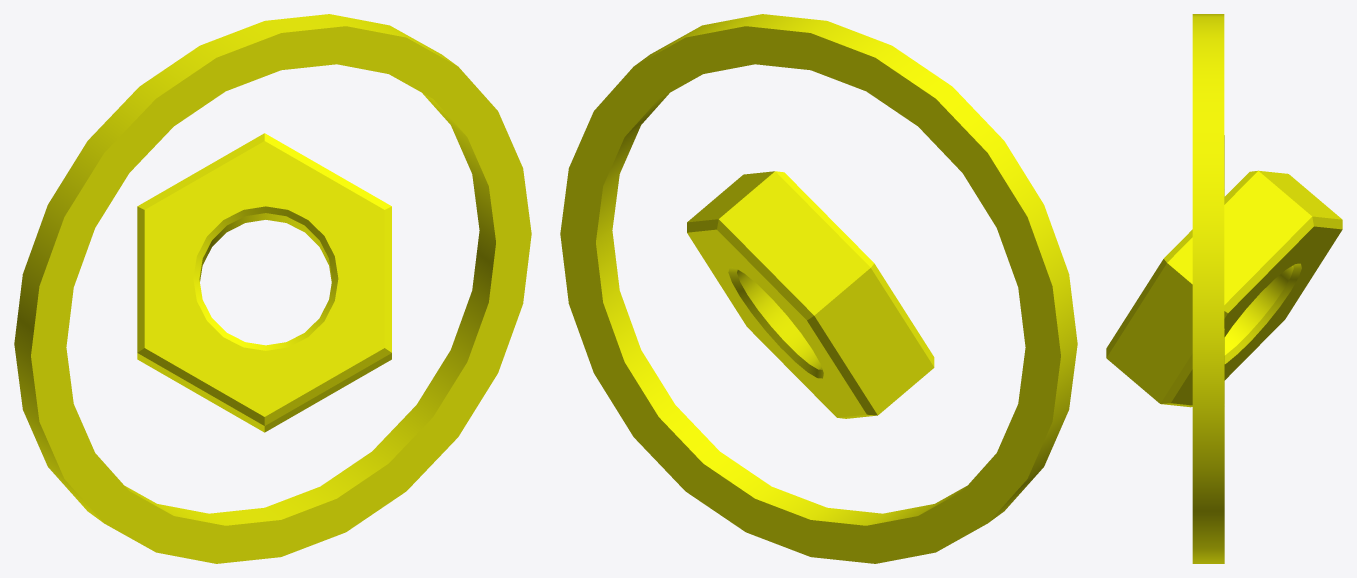
Rendered from Gold.fbx.
The picture shows the model from 3 angles, left to right: view 1: azimuth 30°, elevation 25°; view 2: azimuth 150°, elevation 25°; view 3: azimuth 270°, elevation 25°; orthographic projection. The views are drawn at different scales.
Parts seen in each view (by area): view 1: GOLD; view 2: GOLD; view 3: GOLD.
Part boxes in pixels (<box>): GOLD: <box>14,14,531,563</box>; GOLD: <box>560,14,1077,563</box>; GOLD: <box>1106,14,1342,563</box>.
Bounding box in the file's own units: 39.42 × 39.42 × 16.88.
